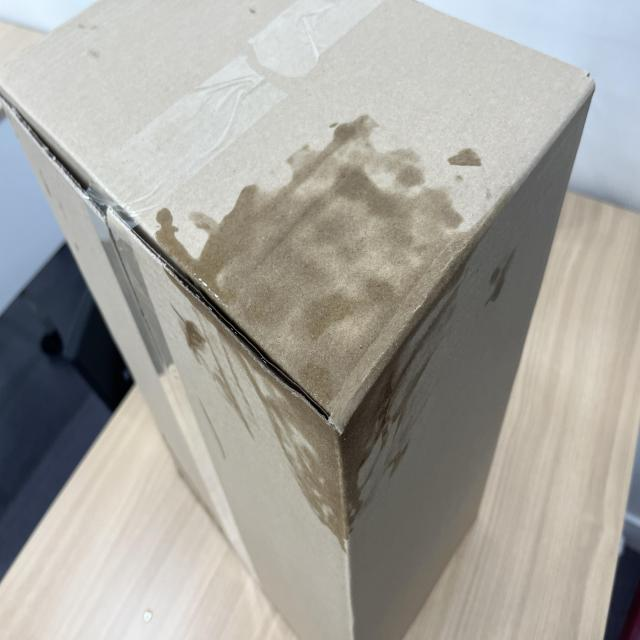wet: (167, 172, 460, 525)
